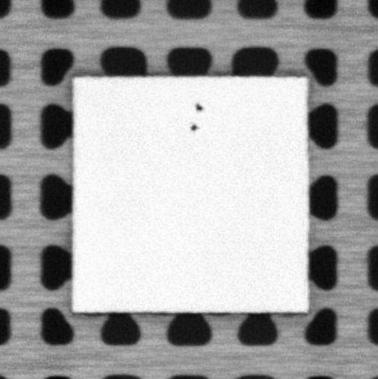DIE_INK: (192, 100, 203, 112), (188, 121, 199, 131)
